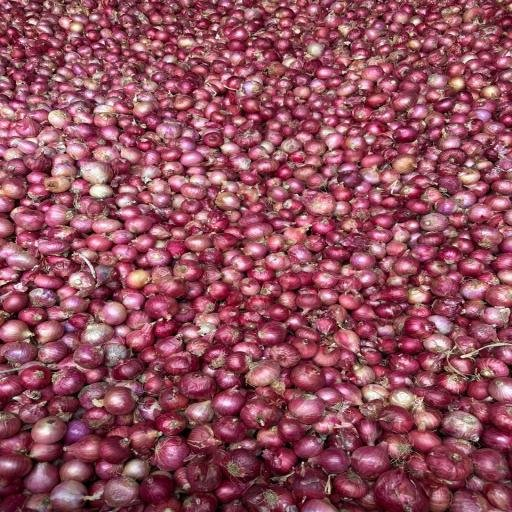damaged: (100, 340, 133, 364), (92, 262, 120, 288)
healthy: (445, 487, 512, 512), (350, 442, 394, 478), (281, 392, 327, 426), (472, 446, 510, 484), (68, 156, 119, 184), (46, 480, 89, 512), (152, 434, 189, 471), (172, 373, 218, 402), (241, 393, 279, 428), (442, 409, 480, 443), (308, 450, 356, 476), (141, 294, 181, 325), (62, 433, 100, 465), (32, 414, 66, 448), (103, 383, 138, 415), (375, 406, 415, 433), (104, 474, 138, 505), (0, 449, 30, 484), (50, 366, 86, 395), (262, 446, 296, 476), (12, 366, 54, 390), (0, 340, 38, 366), (100, 436, 134, 465), (226, 452, 260, 481), (266, 342, 303, 368), (213, 387, 245, 417), (98, 301, 132, 329), (284, 364, 320, 390), (403, 316, 439, 342), (14, 204, 45, 232), (337, 472, 367, 500), (42, 203, 76, 227), (295, 288, 323, 317), (0, 409, 26, 440), (0, 321, 35, 344), (255, 251, 293, 272), (218, 352, 254, 374), (113, 362, 148, 384), (202, 281, 237, 303), (38, 340, 73, 362), (478, 358, 510, 382), (180, 232, 210, 257), (471, 223, 501, 248), (59, 294, 93, 316), (346, 250, 380, 272), (386, 92, 420, 114), (171, 259, 204, 281), (483, 283, 512, 308), (47, 108, 73, 134), (468, 375, 493, 402), (394, 335, 426, 356), (394, 256, 422, 280), (88, 229, 116, 253), (257, 306, 296, 323), (252, 154, 282, 176), (213, 326, 245, 346), (2, 290, 31, 312), (432, 198, 463, 218), (358, 62, 386, 84), (275, 271, 304, 292), (154, 414, 184, 434), (130, 235, 160, 255), (121, 270, 154, 288), (39, 270, 66, 292), (372, 210, 399, 232), (314, 271, 342, 292), (491, 399, 512, 427), (436, 246, 464, 267), (391, 126, 421, 144), (154, 144, 184, 162), (440, 129, 463, 151), (238, 225, 271, 240), (181, 183, 208, 201), (341, 294, 365, 314), (169, 91, 194, 108), (304, 139, 329, 155), (240, 95, 262, 112), (237, 170, 263, 184), (134, 139, 156, 154), (204, 134, 225, 148), (225, 37, 244, 51), (155, 32, 170, 40)
